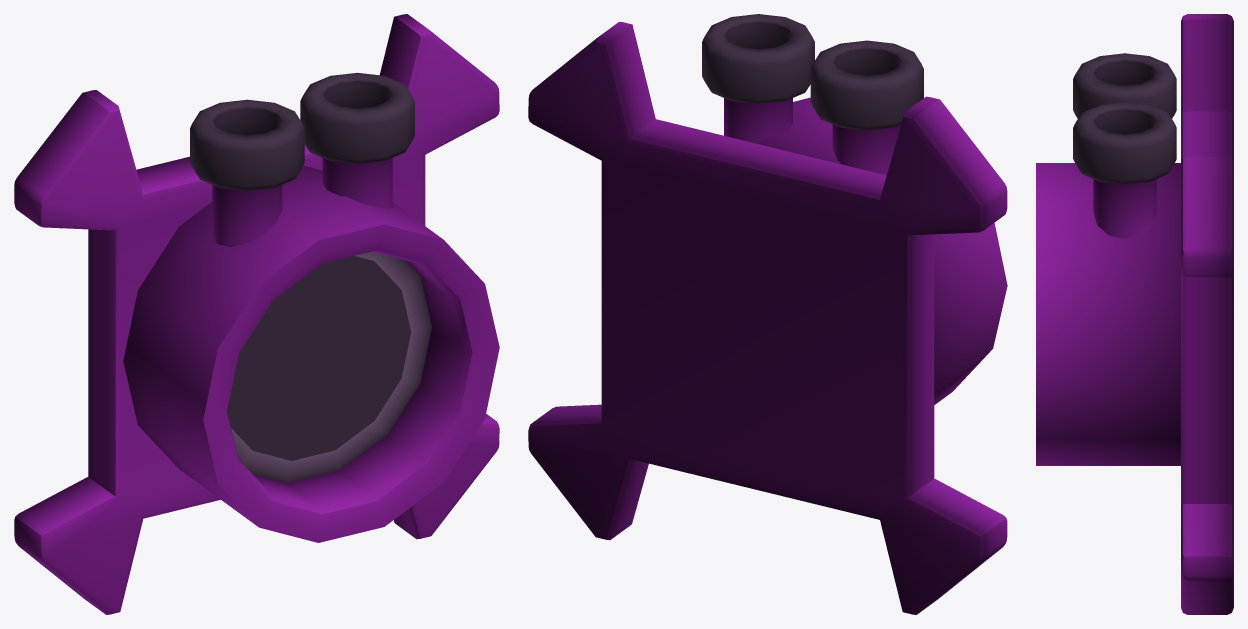
File: Procesor_Cooling_lvl_08_V02.fbx
The picture shows the model from 3 angles, left to right: view 1: azimuth 30°, elevation 25°; view 2: azimuth 150°, elevation 25°; view 3: azimuth 270°, elevation 25°; orthographic projection. The views are drawn at different scales.
Parts seen in each view (by area): view 1: Procesor_Cooling_lvl_08; view 2: Procesor_Cooling_lvl_08; view 3: Procesor_Cooling_lvl_08.
Boxes of the visible parts, x1,y1,x2,y2 form: Procesor_Cooling_lvl_08: (14, 14, 499, 614); Procesor_Cooling_lvl_08: (528, 14, 1007, 614); Procesor_Cooling_lvl_08: (1036, 14, 1233, 614).
Size of the model in its own units: 44.66 by 46.75 by 18.29.
